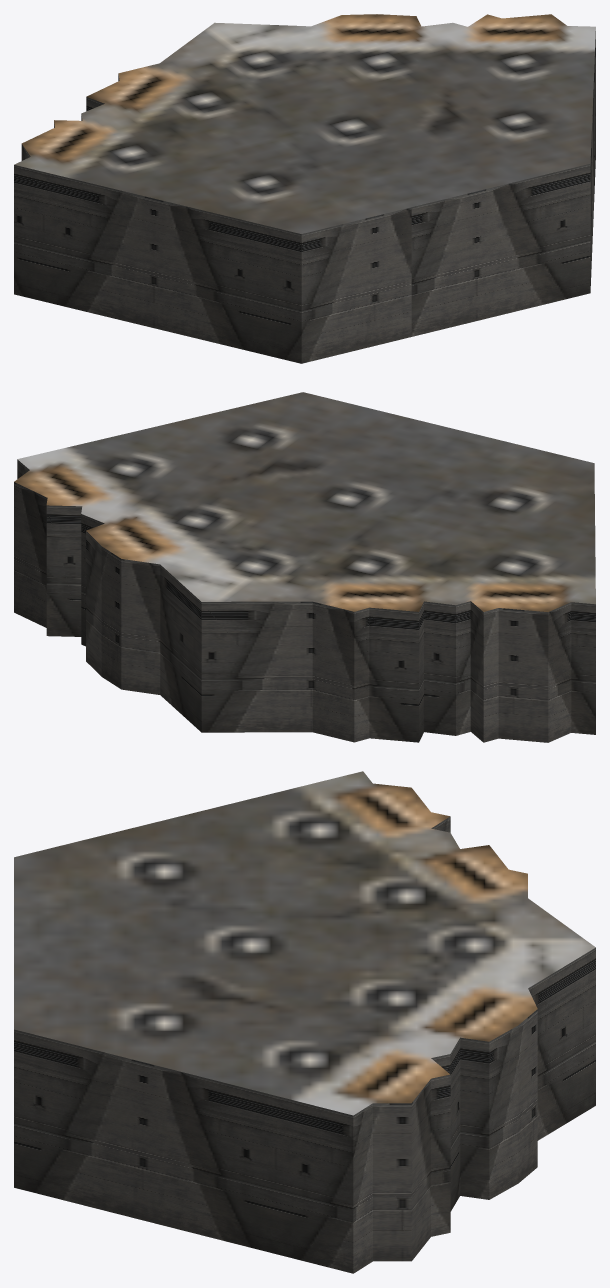
File: fortress_medium_a_28.glb
3 renders of one model, top to bottom at view 1: azimuth 30°, elevation 25°; view 2: azimuth 150°, elevation 25°; view 3: azimuth 270°, elevation 25°, orthographic. The views are drawn at different scales.
Visible parts, largest first — view 1: buildings/saxarba/fortress_medium/fortress_medium_a_28; view 2: buildings/saxarba/fortress_medium/fortress_medium_a_28; view 3: buildings/saxarba/fortress_medium/fortress_medium_a_28.
Part boxes in pixels (left/top/right/bottom): buildings/saxarba/fortress_medium/fortress_medium_a_28: left=14, top=14, right=595, bottom=363; buildings/saxarba/fortress_medium/fortress_medium_a_28: left=14, top=392, right=595, bottom=742; buildings/saxarba/fortress_medium/fortress_medium_a_28: left=14, top=771, right=595, bottom=1273.
Bounding box in the file's own units: 84 × 18 × 60.
